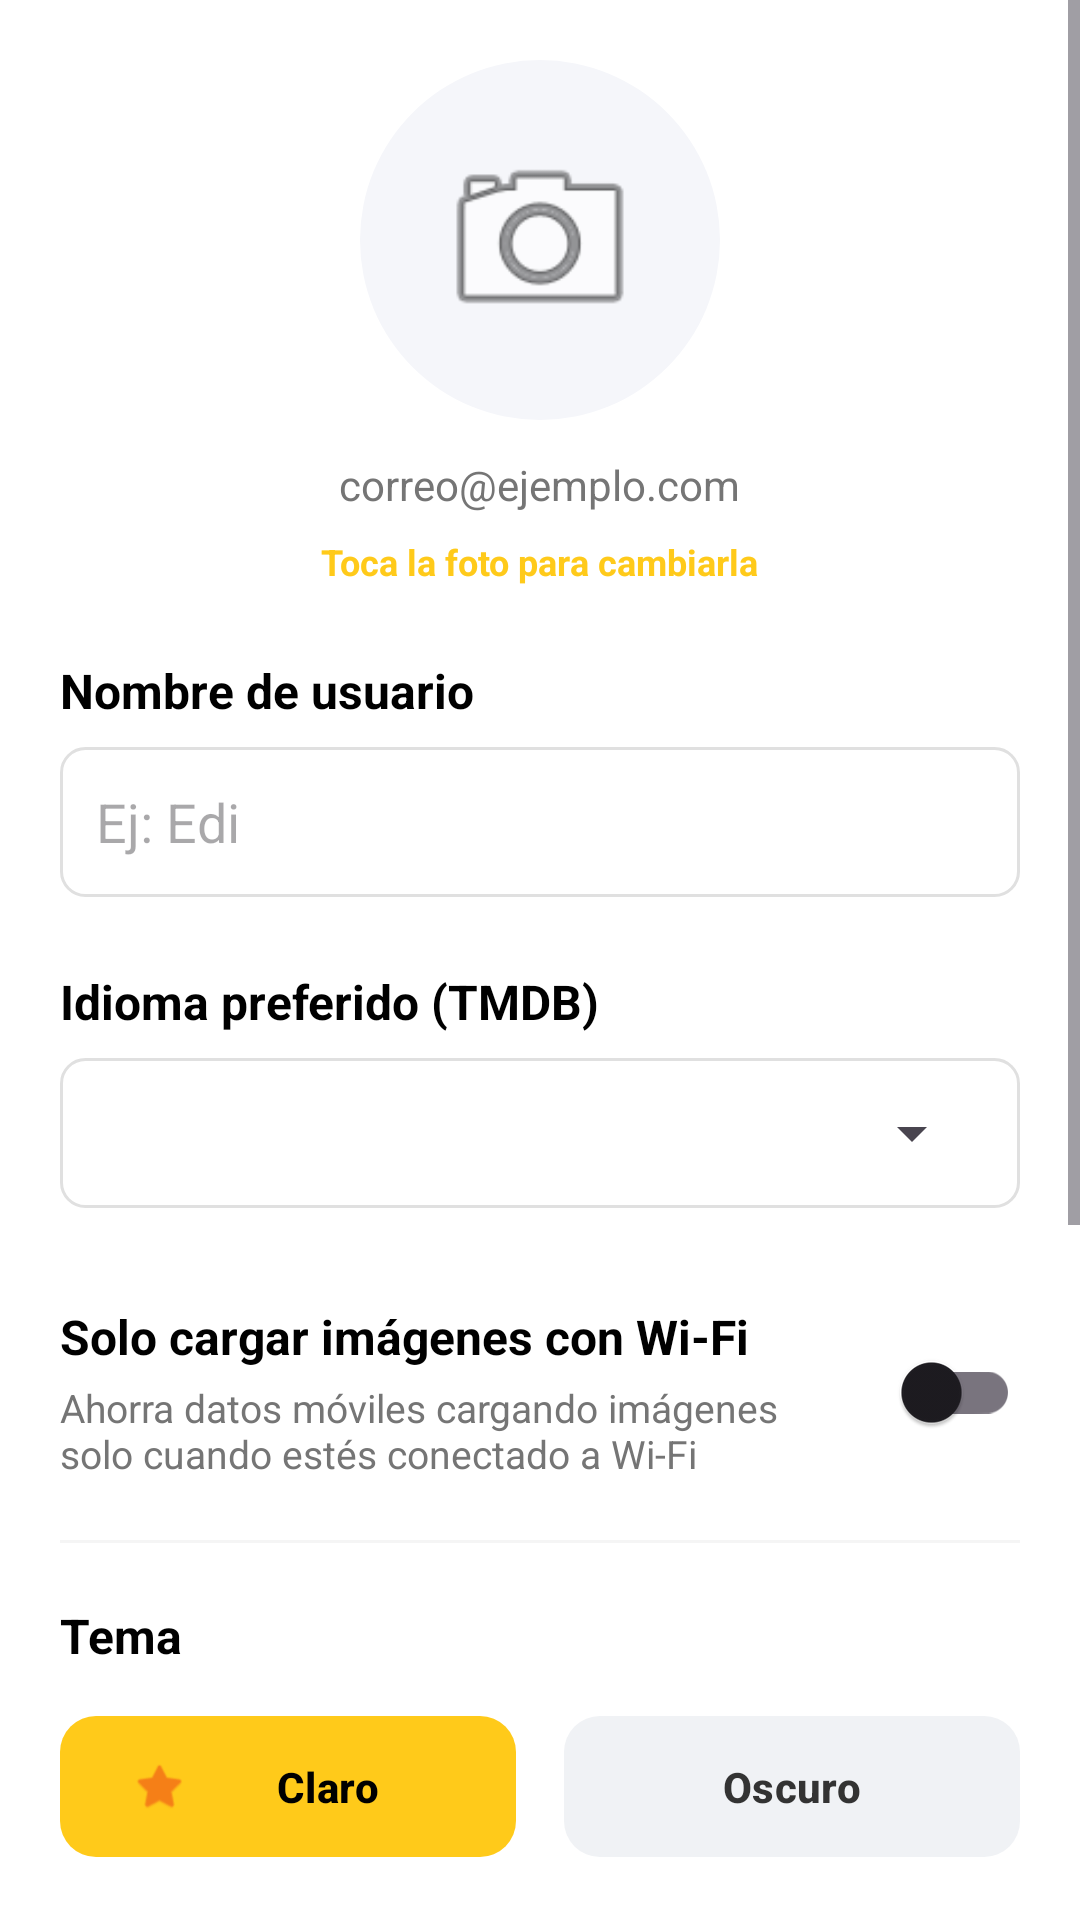

Point at icon controls on the screen. Image size 1080px×1920px, points as point (x, y).
camera: point (540, 237)
